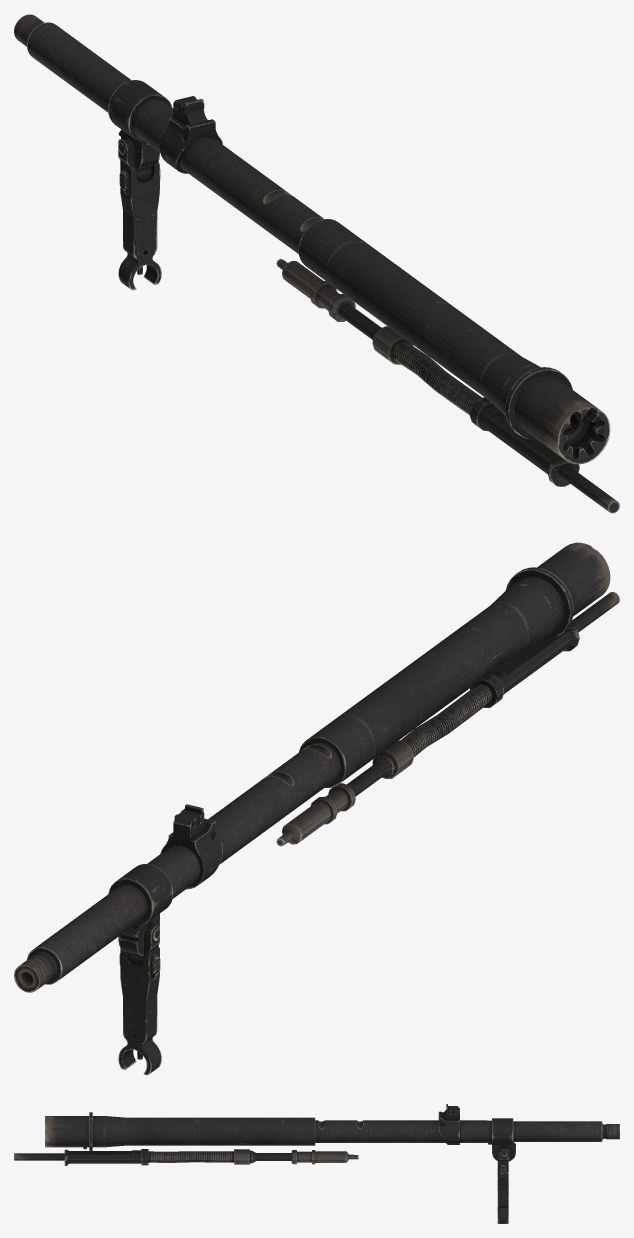
3 renders of one model, top to bottom at view 1: azimuth 30°, elevation 25°; view 2: azimuth 150°, elevation 25°; view 3: azimuth 270°, elevation 25°, orthographic. The views are drawn at different scales.
Parts seen in each view (by area): view 1: TW_5bb20da5d4351e0035629dbf_PZ_Import; view 2: TW_5bb20da5d4351e0035629dbf_PZ_Import; view 3: TW_5bb20da5d4351e0035629dbf_PZ_Import.
Boxes of the visible parts, x1,y1,x2,y2 form: TW_5bb20da5d4351e0035629dbf_PZ_Import: [14, 14, 619, 513]; TW_5bb20da5d4351e0035629dbf_PZ_Import: [14, 542, 619, 1075]; TW_5bb20da5d4351e0035629dbf_PZ_Import: [14, 1104, 619, 1223].
Bounding box in the file's own units: 0.017 × 0.2643 × 0.0551.
Materials: 1 (1 with a texture image).
